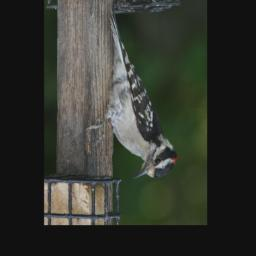Woodpecker: (86, 9, 177, 179)
